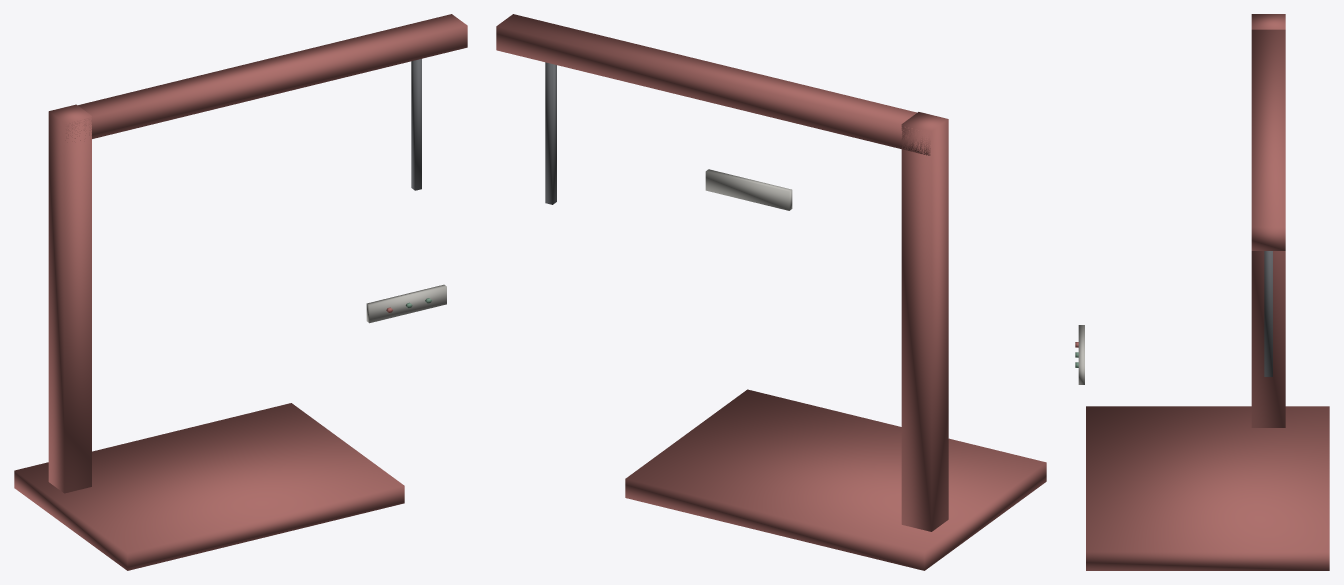
Rendered from chain_hoist__squat.glb.
The picture shows the model from 3 angles, left to right: view 1: azimuth 30°, elevation 25°; view 2: azimuth 150°, elevation 25°; view 3: azimuth 270°, elevation 25°; orthographic projection. The views are drawn at different scales.
Visible parts, largest first — view 1: world; view 2: world; view 3: world.
Part boxes in pixels (x1,y1,x2,y2): world: [14, 14, 467, 570]; world: [496, 14, 1046, 570]; world: [1075, 14, 1329, 570].
Size of the model in its own units: 1.66 by 1.47 by 0.8111.
